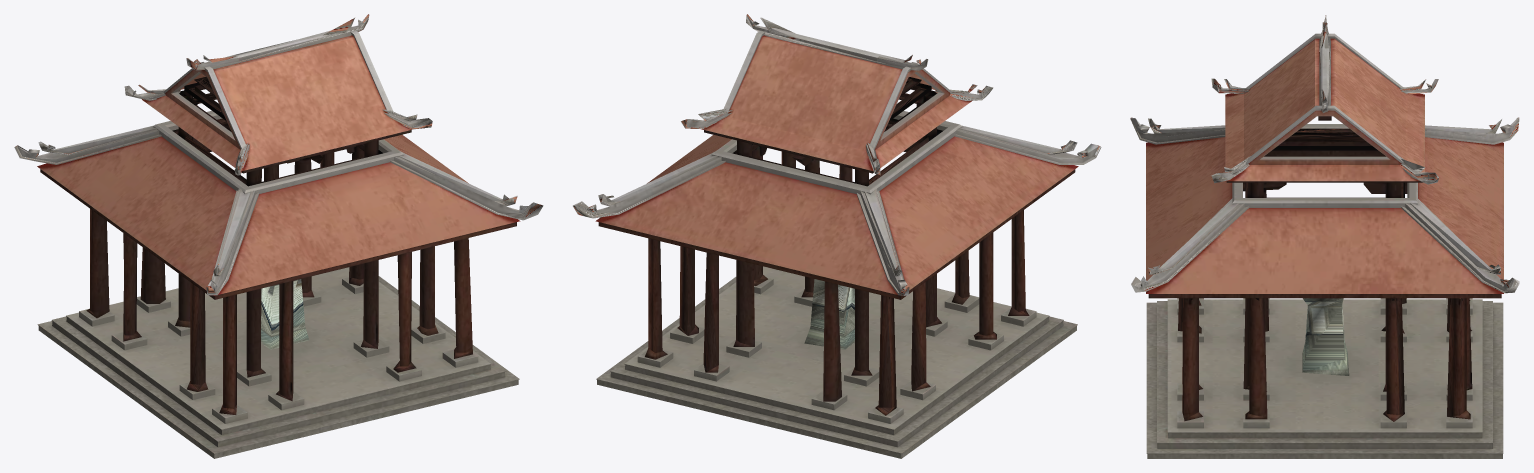
File: nha-nho-can-tho.glb
3 views of the same model, side by side, from view 1: azimuth 30°, elevation 25°; view 2: azimuth 150°, elevation 25°; view 3: azimuth 270°, elevation 25° (orthographic).
Visible parts, largest first — view 1: Object_3, Object_4, Object_2; view 2: Object_3, Object_4, Object_2; view 3: Object_3, Object_4, Object_2.
Boxes of the visible parts, <box> form: Object_3: <box>14,14,543,458</box>; Object_4: <box>40,77,516,414</box>; Object_2: <box>261,279,309,349</box>; Object_3: <box>573,14,1101,458</box>; Object_4: <box>598,77,1075,415</box>; Object_2: <box>804,279,854,349</box>; Object_3: <box>1130,15,1519,458</box>; Object_4: <box>1148,116,1501,421</box>; Object_2: <box>1302,298,1349,375</box>.
Bounding box in the file's own units: 1 × 0.9105 × 0.99.
3 materials, 3 textured.
